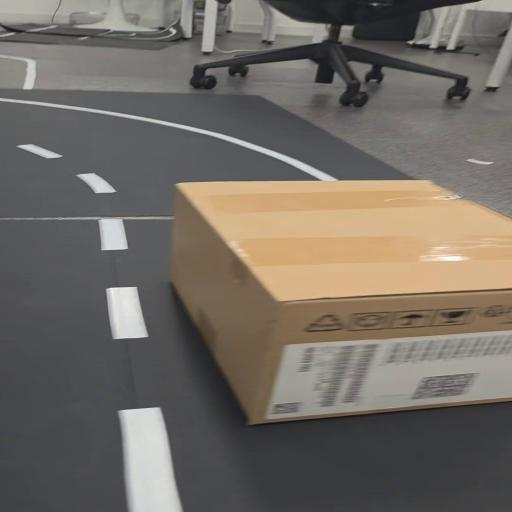Box: (137, 166, 512, 430)
